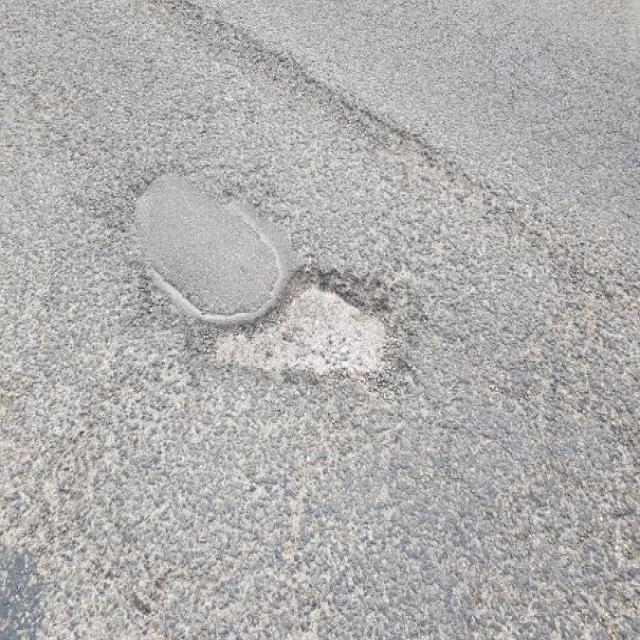pothole: (182, 252, 415, 392)
